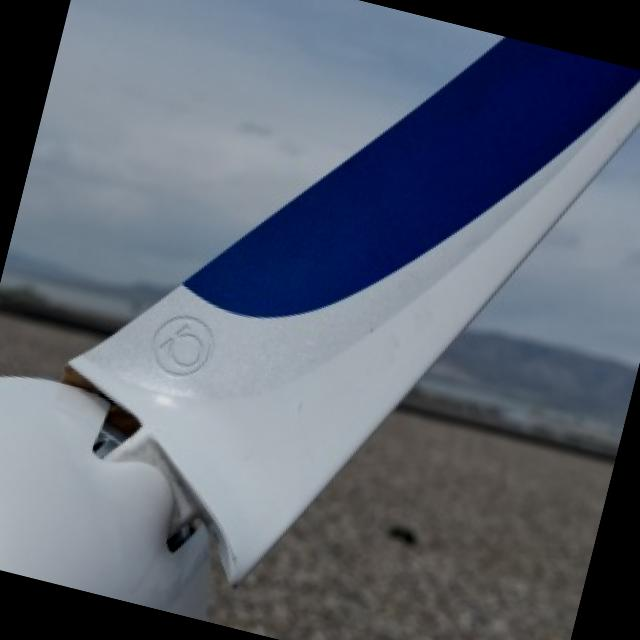healthy: (0, 377, 205, 617)
